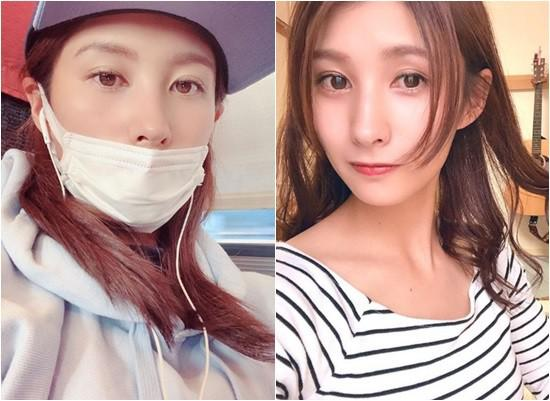NONE: (312, 26, 457, 212)
WRONG: (48, 20, 218, 239)
